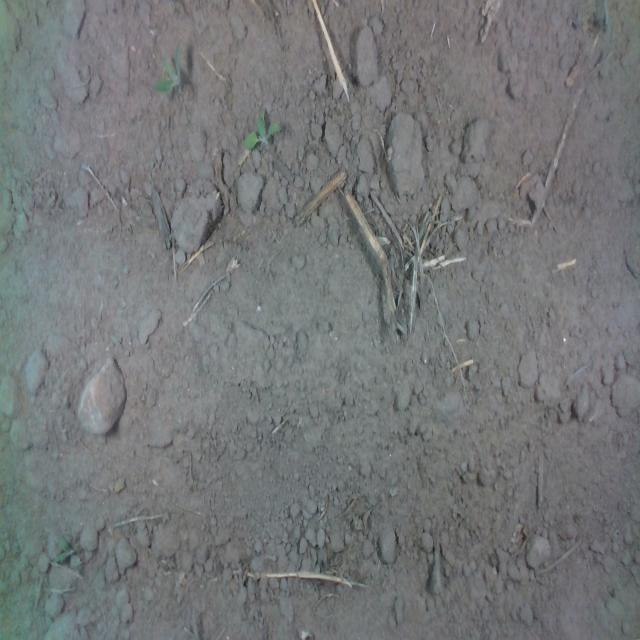weed: (242, 103, 282, 150)
